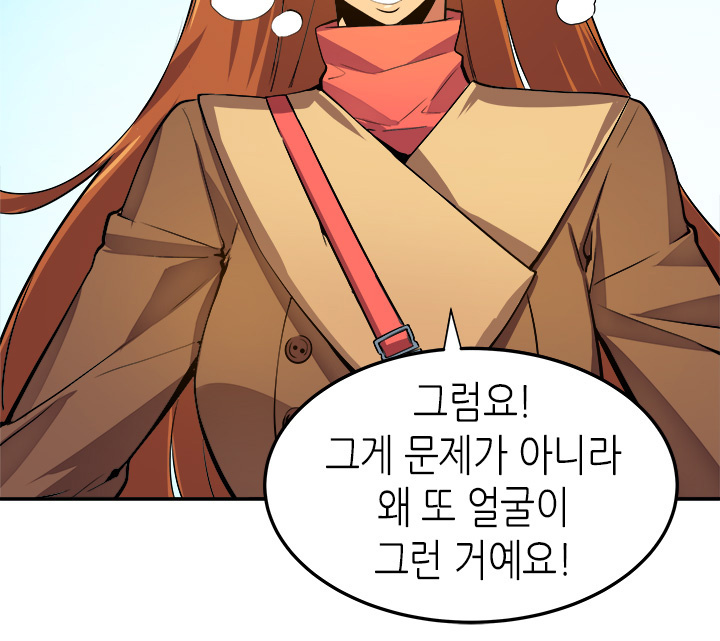dialog box: (217, 280, 706, 641)
text: (297, 346, 650, 611)
